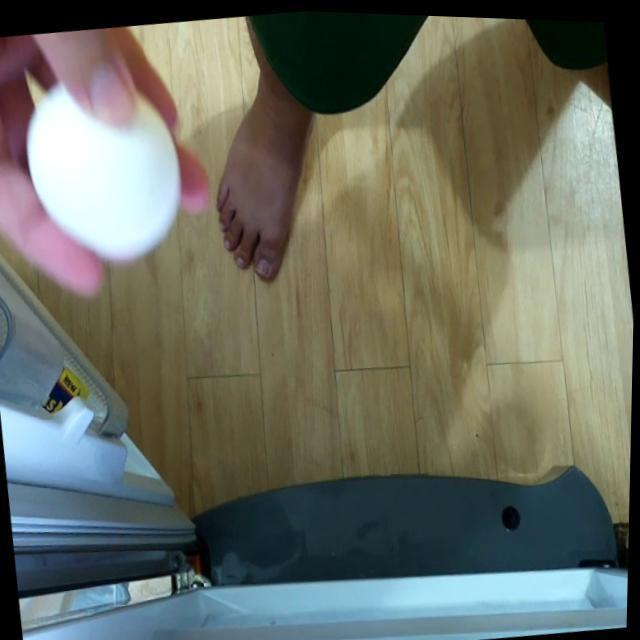egg: (11, 56, 194, 270)
